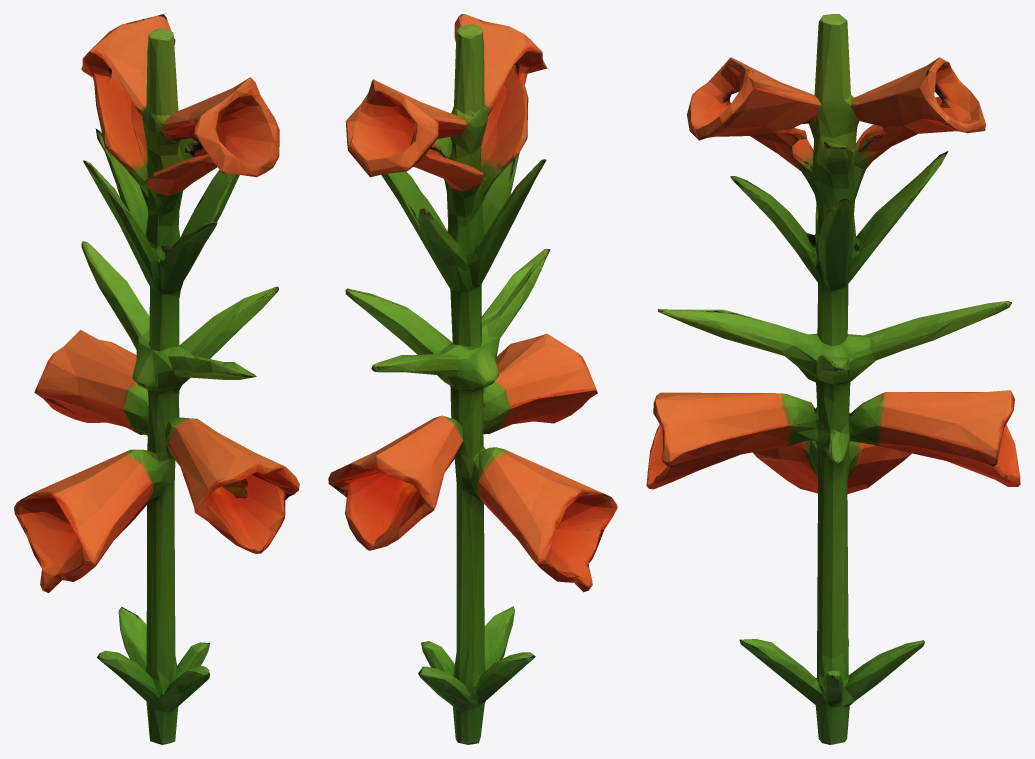
The model's file is firecracker_penstemon.glb.
The picture shows the model from 3 angles, left to right: view 1: azimuth 30°, elevation 25°; view 2: azimuth 150°, elevation 25°; view 3: azimuth 270°, elevation 25°; orthographic projection. The views are drawn at different scales.
Parts seen in each view (by area): view 1: world; view 2: world; view 3: world.
Boxes of the visible parts, bbox=[...] form: world: bbox=[14, 14, 299, 744]; world: bbox=[328, 14, 617, 744]; world: bbox=[646, 14, 1020, 744].
Bounding box in the file's own units: 0.3537 × 0.9943 × 0.4677.
Materials: 1 (1 with a texture image).
